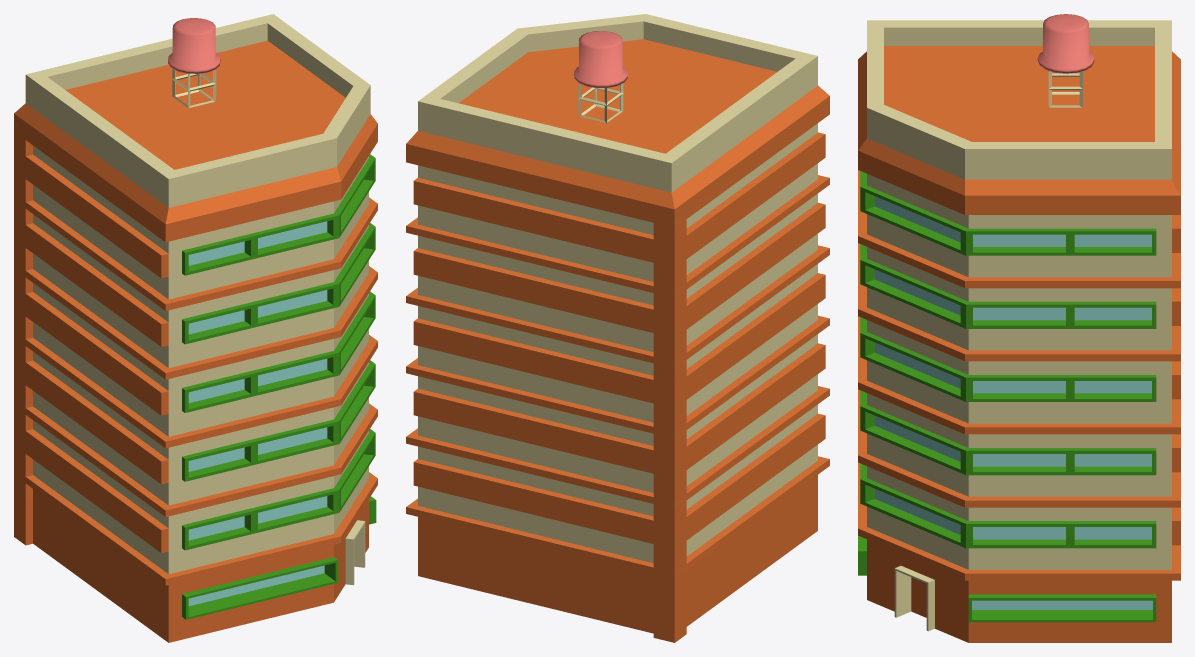
Rendered from SceneComplex_Building_Business.fbx.
3 renders of one model, left to right at view 1: azimuth 30°, elevation 25°; view 2: azimuth 150°, elevation 25°; view 3: azimuth 270°, elevation 25°, orthographic. The views are drawn at different scales.
Visible parts, largest first — view 1: Cube.016; view 2: Cube.016; view 3: Cube.016.
Part boxes in pixels (x1,y1,x2,y2): Cube.016: [14, 14, 377, 642]; Cube.016: [406, 14, 829, 642]; Cube.016: [858, 14, 1180, 642].
Bounding box in the file's own units: 161 × 305 × 161.
